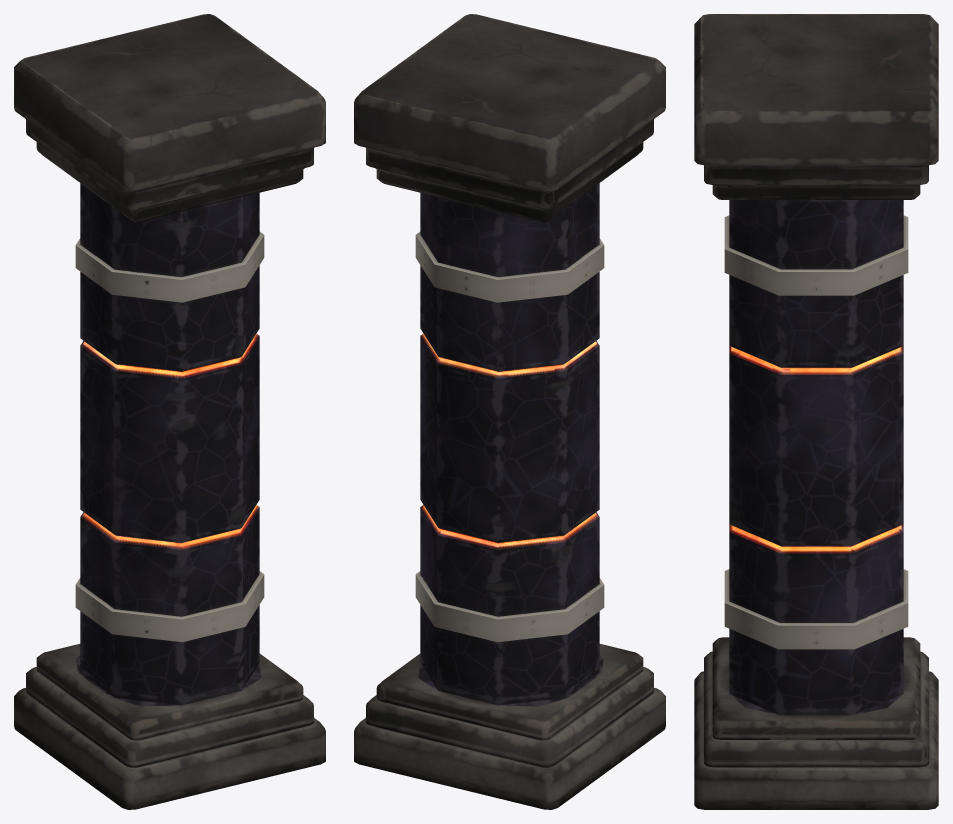
Rendered from hellforge_pillar.glb.
The picture shows the model from 3 angles, left to right: view 1: azimuth 30°, elevation 25°; view 2: azimuth 150°, elevation 25°; view 3: azimuth 270°, elevation 25°; orthographic projection. The views are drawn at different scales.
Parts seen in each view (by area): view 1: hellforge_pillar; view 2: hellforge_pillar; view 3: hellforge_pillar.
Boxes of the visible parts, x1,y1,x2,y2 form: hellforge_pillar: (14, 14, 325, 809); hellforge_pillar: (354, 14, 665, 809); hellforge_pillar: (694, 14, 938, 809).
Size of the model in its own units: 1.4 by 4.4 by 1.4.
Materials: 1 (1 with a texture image).
